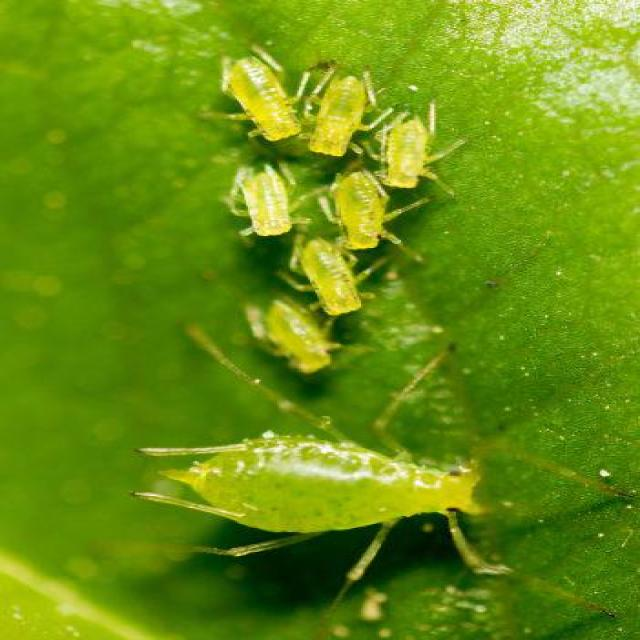Aphids: (128, 382, 536, 590), (292, 225, 401, 328), (202, 43, 310, 143), (357, 99, 465, 193), (309, 161, 408, 254), (212, 157, 306, 243), (292, 68, 364, 164)
